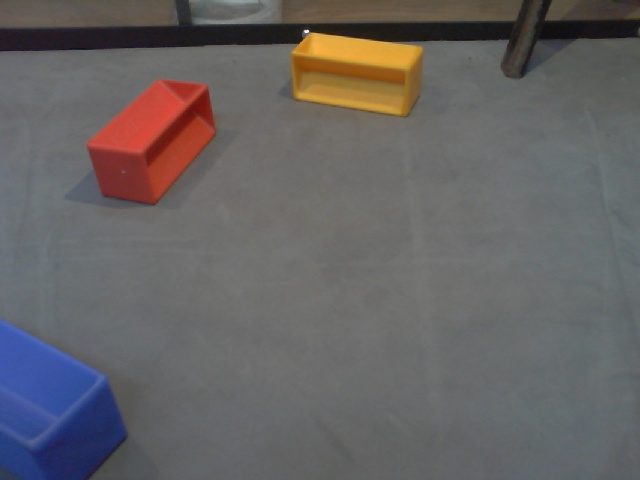BlueSample: (1, 314, 131, 479)
RedSample: (83, 78, 217, 209)
YellowSample: (285, 27, 423, 121)
